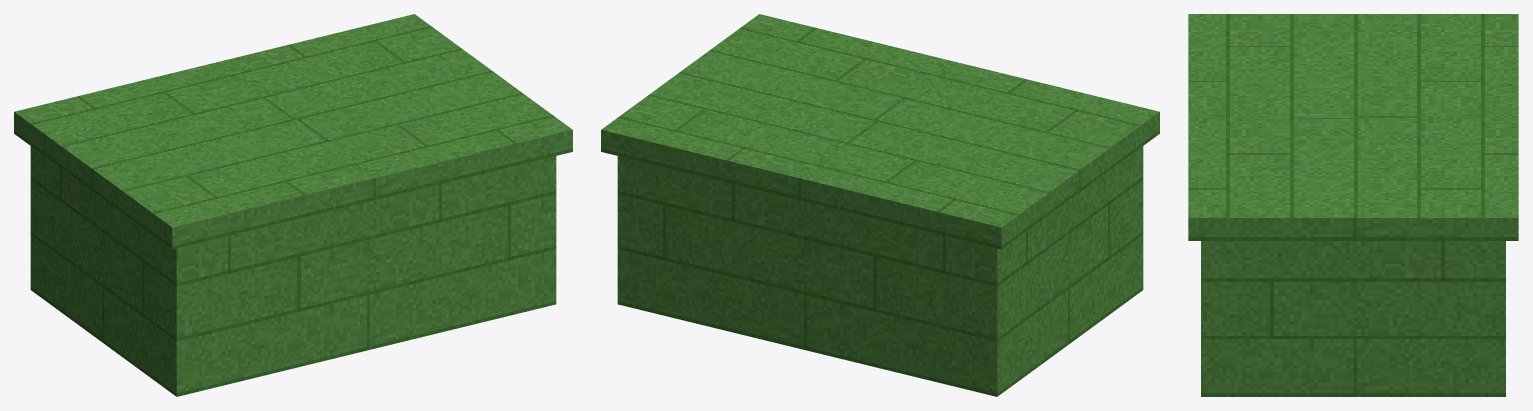
3 views of the same model, side by side, from view 1: azimuth 30°, elevation 25°; view 2: azimuth 150°, elevation 25°; view 3: azimuth 270°, elevation 25° (orthographic). The views are drawn at different scales.
Parts seen in each view (by area): view 1: Decor_produce_table; view 2: Decor_produce_table; view 3: Decor_produce_table.
Boxes of the visible parts, left/top/right/bottom form: Decor_produce_table: left=14, top=14, right=572, bottom=396; Decor_produce_table: left=601, top=14, right=1159, bottom=396; Decor_produce_table: left=1188, top=14, right=1518, bottom=396.
Bounding box in the file's own units: 1.9 × 0.8 × 1.3.
1 material, 1 textured.
